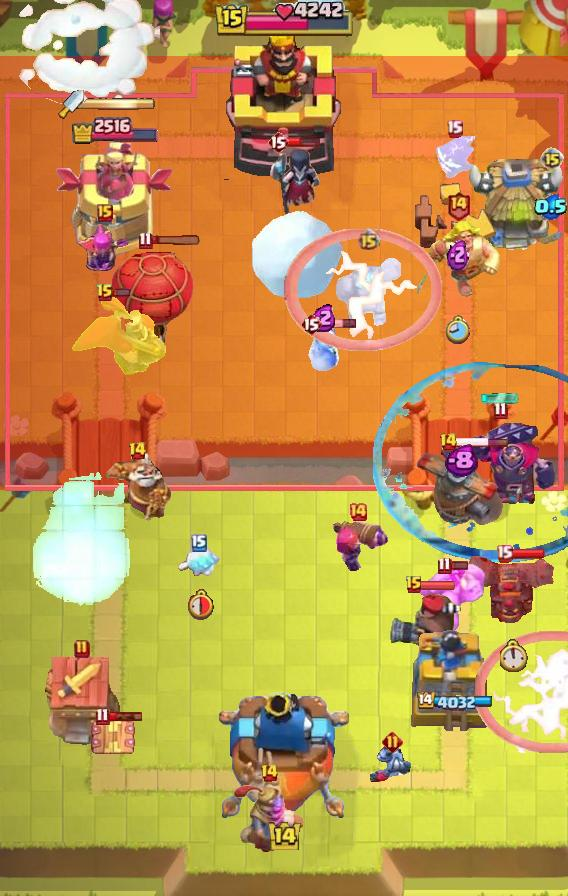archer-evolution: (467, 556, 561, 626)
bar: (54, 142, 173, 256)
barbarian-evolution: (284, 229, 442, 351), (476, 631, 568, 753)
bat: (177, 545, 221, 579)
cannon-cart: (110, 239, 196, 357)
clock: (213, 0, 355, 40)
dark-prince: (414, 444, 508, 526)
electro-spirit: (444, 444, 478, 478), (534, 194, 568, 220), (311, 304, 337, 333), (447, 237, 469, 271)
elixir: (186, 588, 215, 620), (500, 640, 529, 672), (446, 315, 470, 345)
elixir-collector: (102, 450, 172, 522)
emote: (455, 437, 509, 448), (150, 234, 202, 245), (510, 548, 546, 560), (319, 318, 356, 329), (287, 136, 320, 148), (420, 581, 456, 592), (108, 710, 144, 721), (113, 287, 132, 298), (450, 560, 469, 571)
evolution-symbol: (76, 223, 134, 281)
goblin-brawler: (89, 716, 137, 760)
goblin-hut: (412, 219, 504, 303)
ice-golem: (307, 321, 341, 373)
ice-spirit: (480, 392, 520, 404)
inferno-tower: (441, 417, 559, 505)
king-tower: (224, 29, 344, 181), (219, 692, 349, 826)
king-tower-bar: (84, 97, 156, 111)
mega-knight: (28, 472, 131, 609)
mega-minion: (324, 516, 392, 572)
pad_0: (373, 360, 568, 562)
phoenix-small: (387, 590, 465, 650)
prince: (466, 159, 568, 255)
queen-tower: (403, 621, 503, 731)
ram-rider: (232, 783, 306, 853)
rascal-boy: (267, 144, 323, 222)
royal-delivery: (370, 745, 414, 783)
selected: (69, 115, 158, 145), (416, 692, 493, 712)
sparky: (39, 656, 125, 754)
spear-goblin: (433, 136, 475, 182)
text: (446, 191, 470, 222), (540, 147, 564, 171), (356, 228, 379, 252), (267, 130, 289, 154), (300, 312, 322, 336), (382, 731, 403, 753), (348, 502, 368, 522), (260, 763, 280, 783), (438, 432, 457, 452), (129, 441, 148, 461), (96, 283, 114, 303), (405, 575, 423, 595), (495, 545, 513, 564), (74, 639, 90, 659), (446, 119, 463, 137), (97, 204, 113, 222), (191, 534, 207, 552), (493, 400, 508, 419), (138, 231, 153, 249), (94, 707, 109, 725), (437, 556, 451, 575)
valkyrie-evolution: (419, 562, 487, 634), (335, 255, 401, 327)
wall-breaker: (8, 0, 160, 106), (250, 209, 344, 301)
wall-breaker-evolution: (69, 294, 167, 380)
